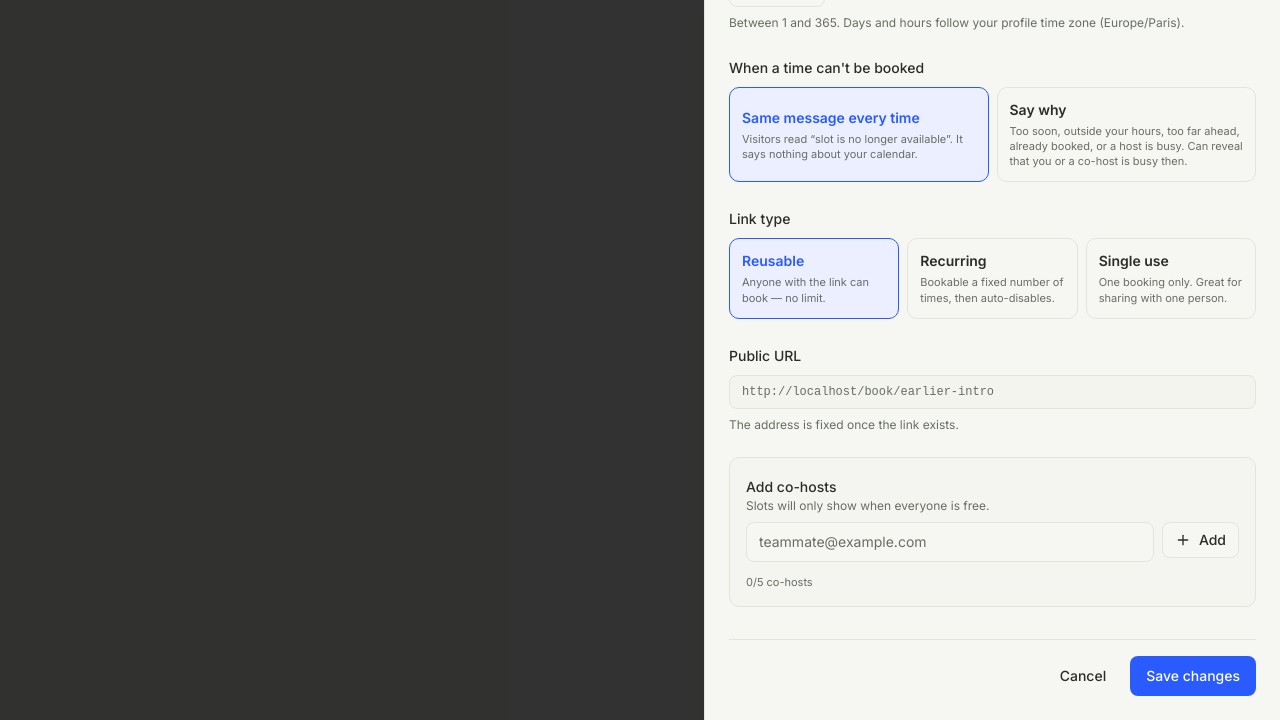
outcome unknown (contract §7.4, AC-19, AC-22) › AC-19: the same failures on an edit keep PAC-83's texts
(page scrolled)
Check: the field named "Co-host email" is enabled, box [746, 522, 1154, 562]
Click the button "Save changes".
click(1193, 676)  # box [1130, 656, 1256, 696]
(page scrolled)
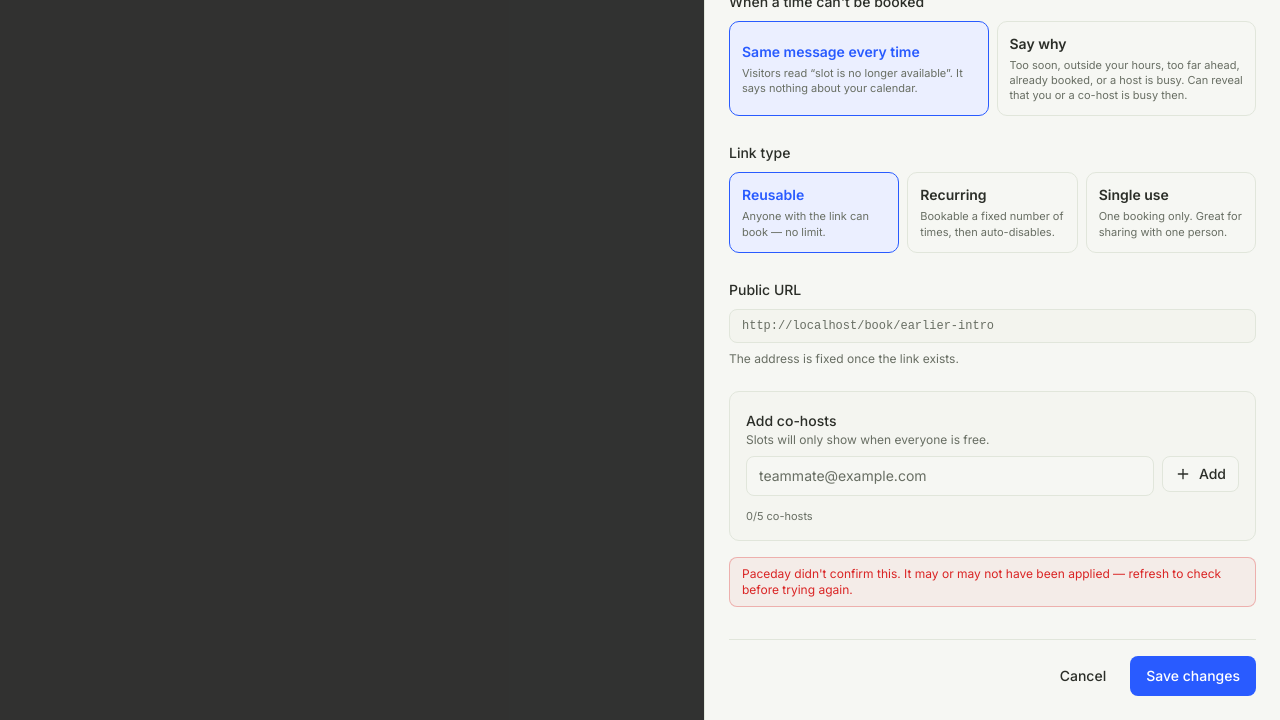
Check: the message shows "Paceday didn't confirm this. It may or may not have been applied — refresh to check before trying again.", box [742, 566, 1221, 597]
Click the button "Save changes".
click(1193, 676)  # box [1130, 656, 1256, 696]
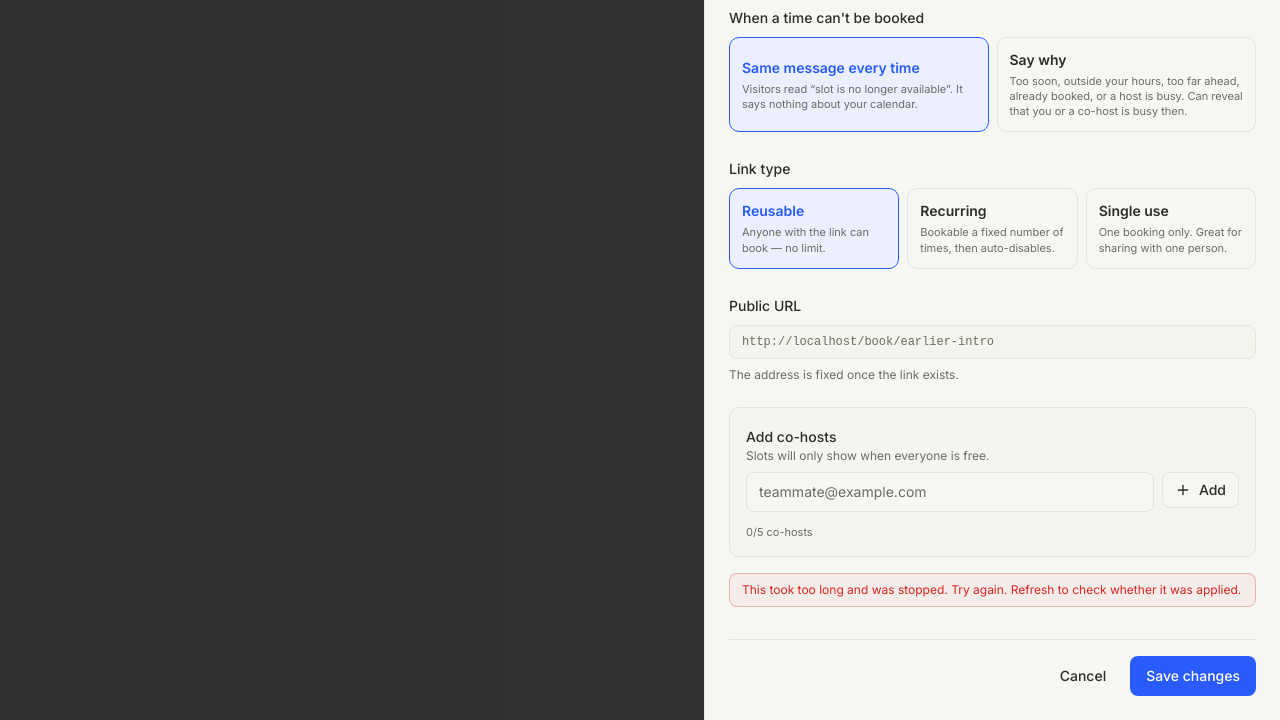
Click the button "Save changes".
click(1193, 676)  # box [1130, 656, 1256, 696]
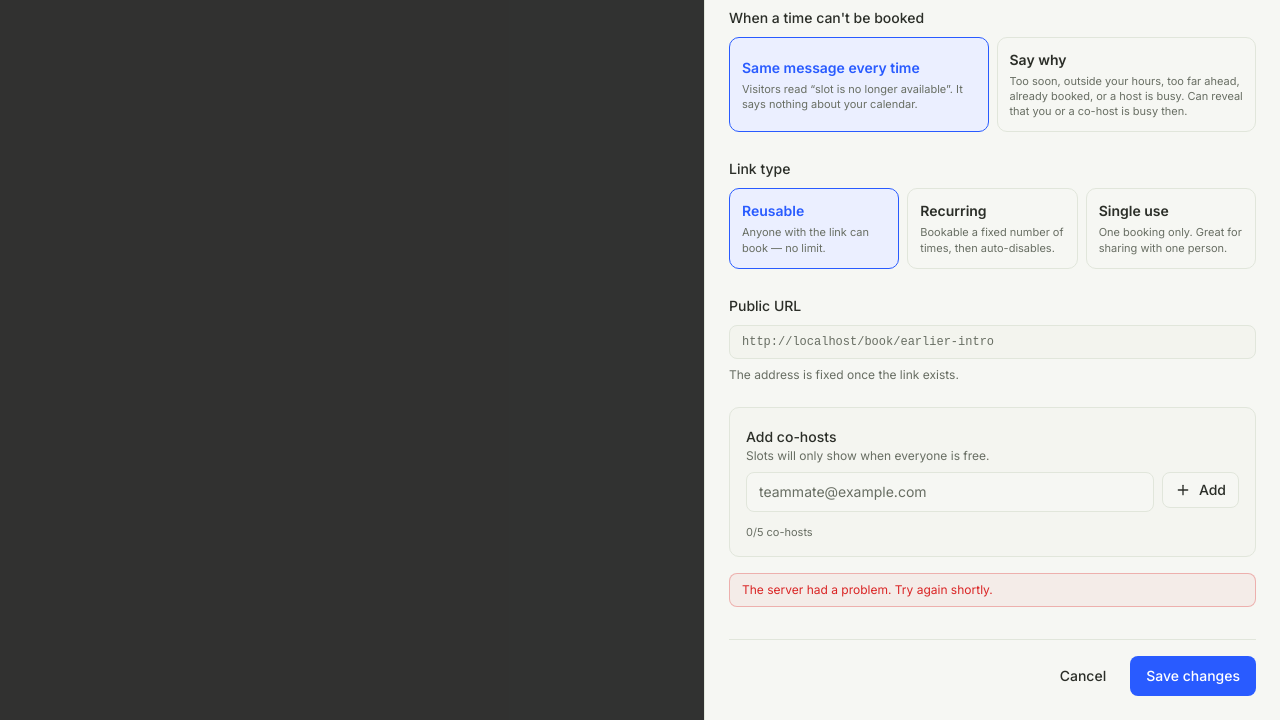
Check: the message reads "The server had a problem. Try again shortly.", box [742, 582, 993, 597]
